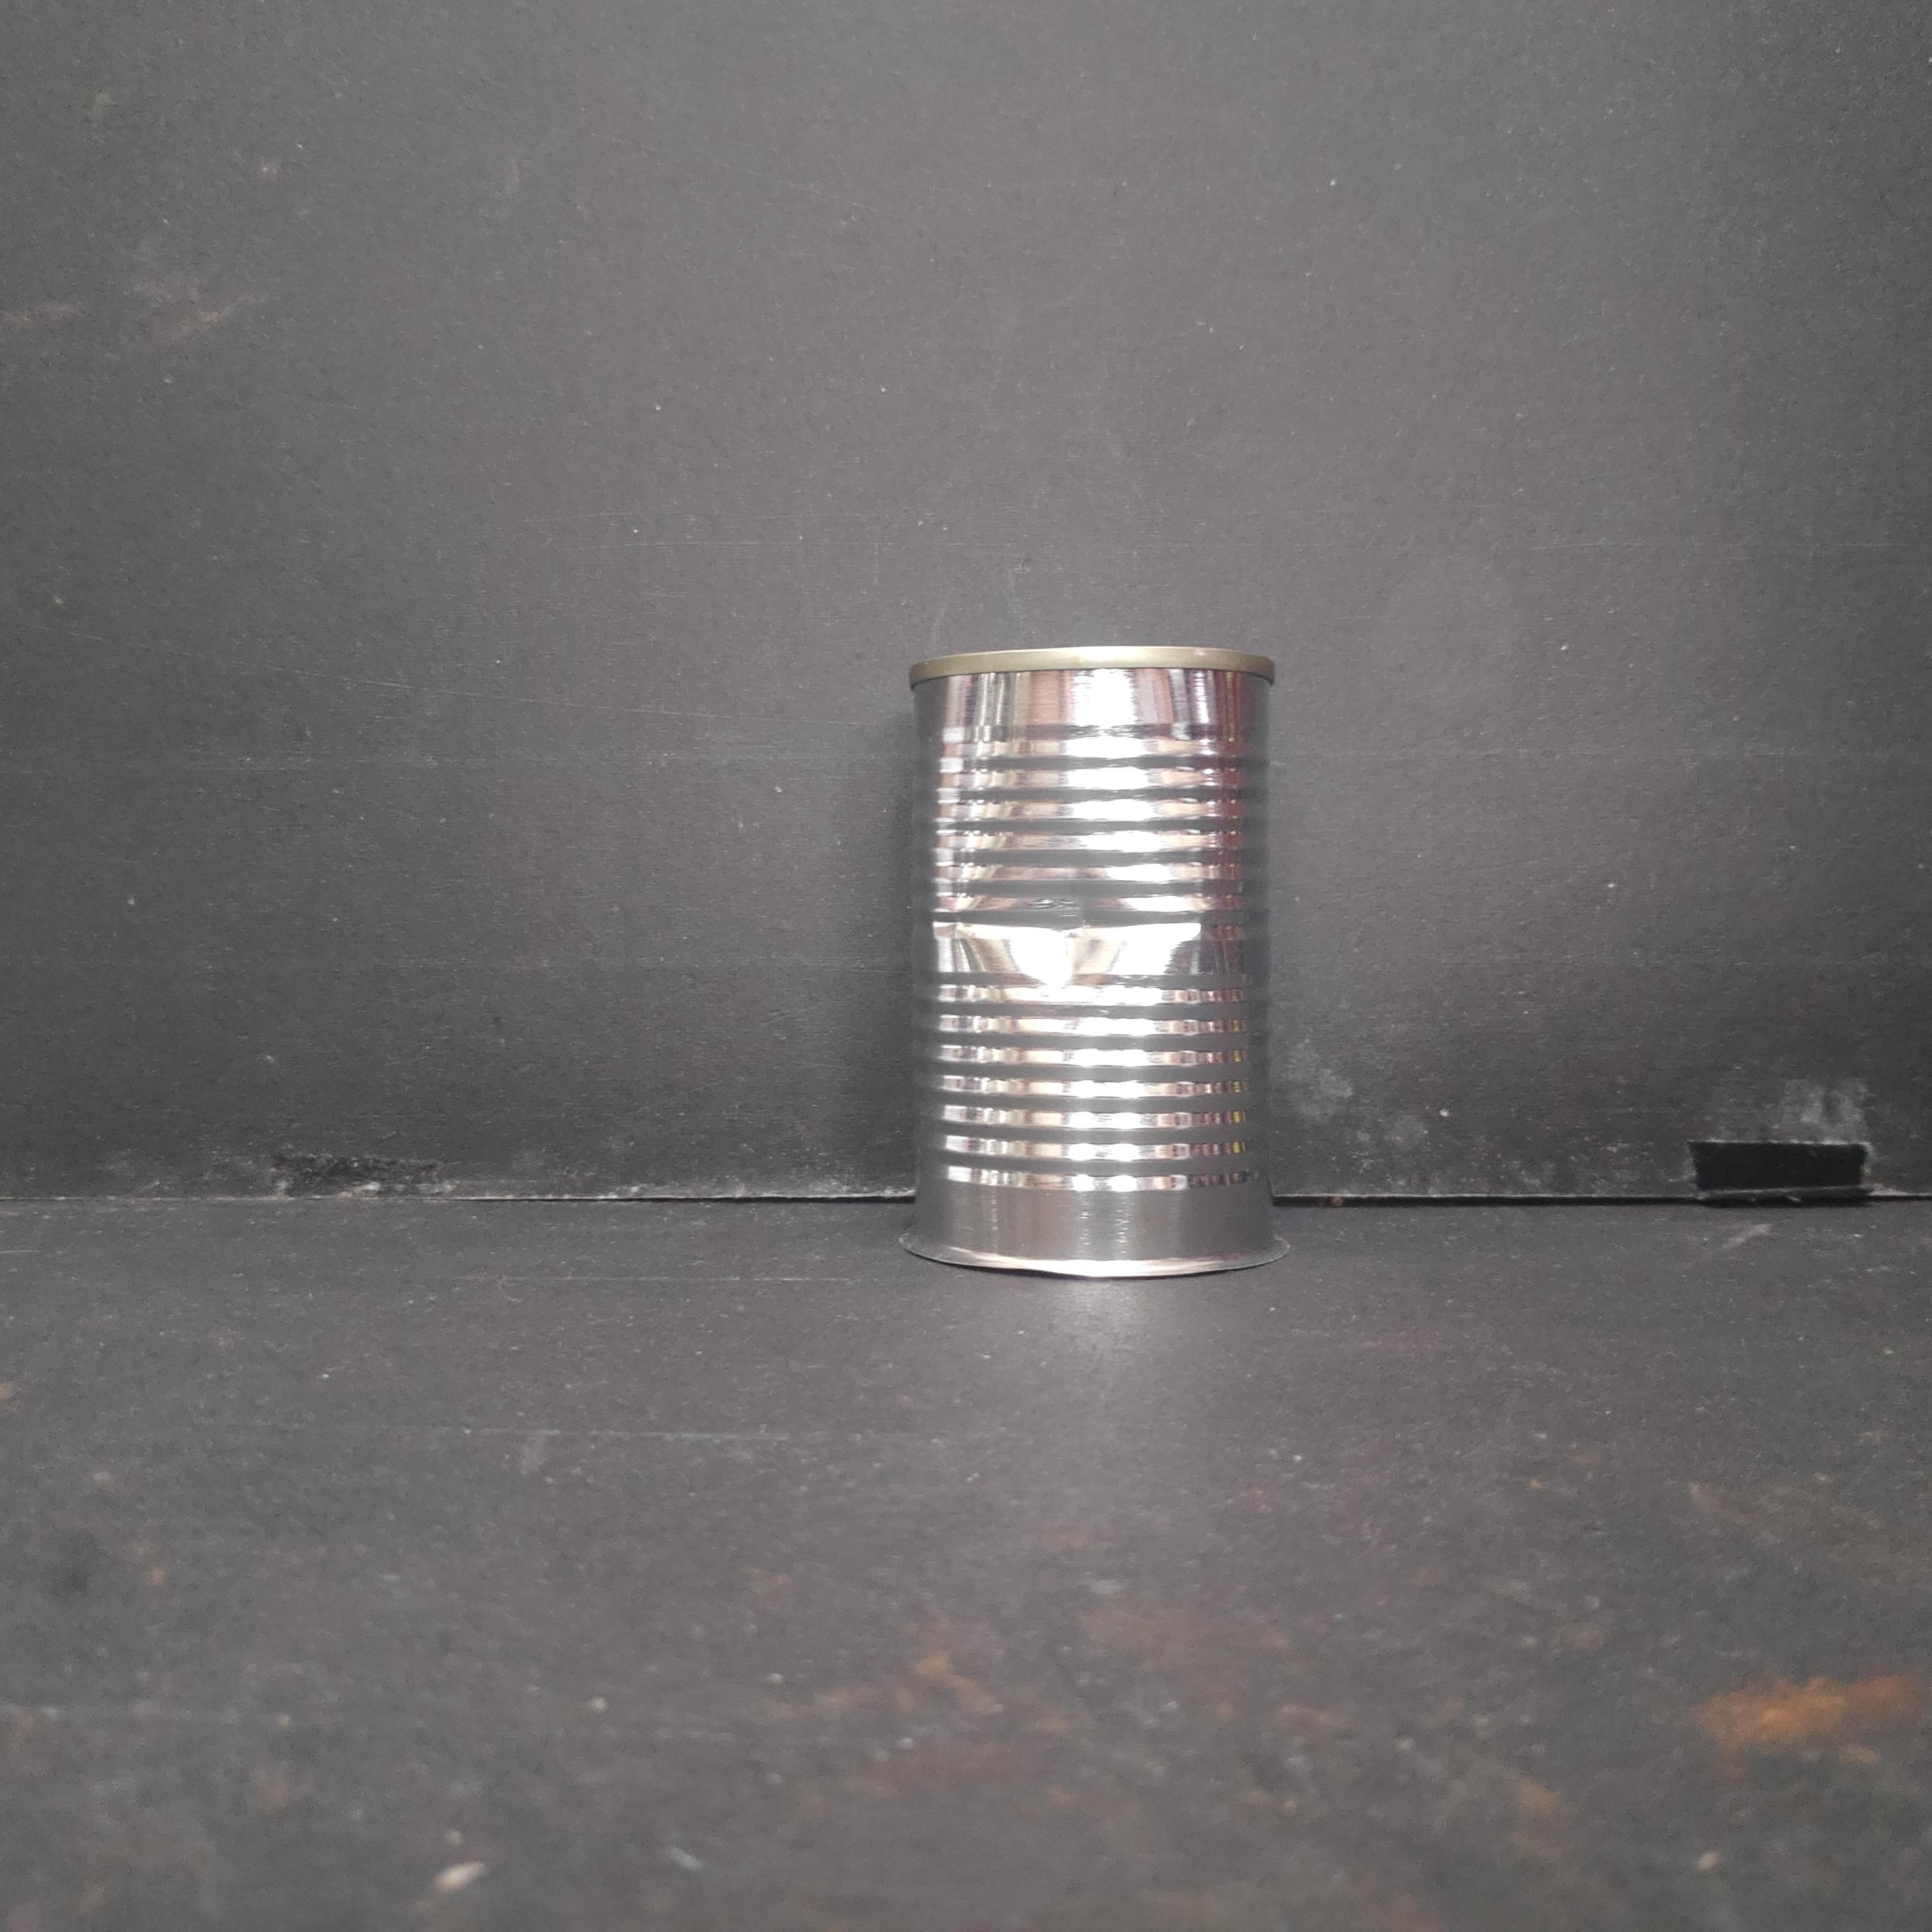Minor Defect: (899, 637, 1284, 1286)
